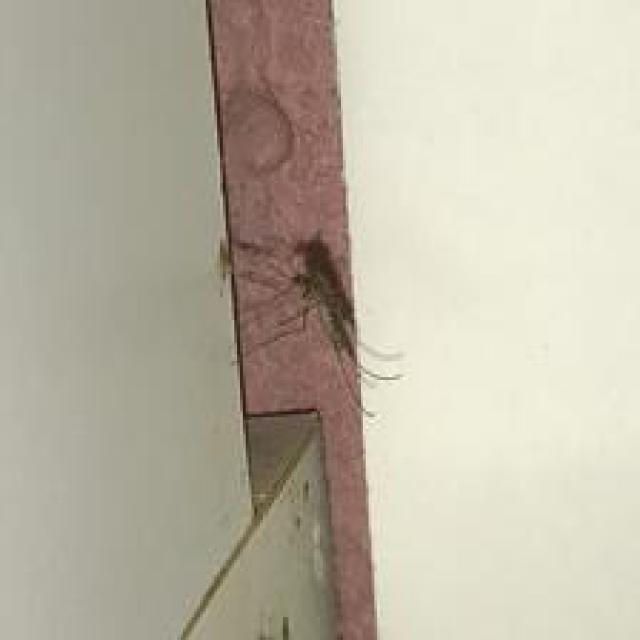Culex: (217, 229, 406, 417)
